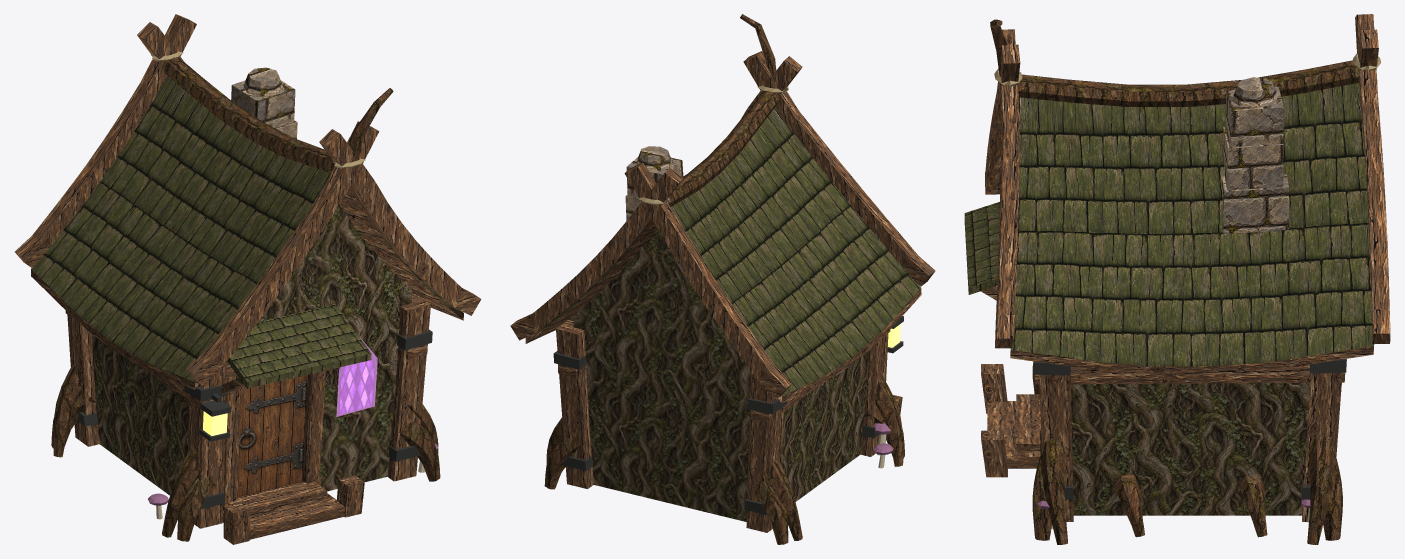
File: house-dark-forest-01.glb
3 views of the same model, side by side, from view 1: azimuth 30°, elevation 25°; view 2: azimuth 150°, elevation 25°; view 3: azimuth 270°, elevation 25° (orthographic). The views are drawn at different scales.
Parts seen in each view (by area): view 1: roof_-1, gable_-1, side_-1, porch_roof, door, barge_-1_-1, roots, barge_1_-1, barge_-1_1, ridge, post_1_-1, post_-1_-1 (+17 smaller); view 2: roof_-1, gable_1, side_-1, barge_1_-1, barge_-1_-1, roots, barge_1_1, post_1_1, post_-1_1, ridge, post_-1_-1, roof_under_1 (+7 smaller); view 3: roof_1, side_1, roots, chimney, ridge, barge_1_1, barge_-1_1, roof_edge_1, plate_1, porch_roof, post_1_-1, post_1_1 (+9 smaller).
Part boxes in pixels (x1,y1,x2,y2): roof_-1: [31, 76, 330, 382]; gable_-1: [227, 205, 411, 491]; side_-1: [92, 334, 188, 495]; porch_roof: [227, 304, 371, 388]; door: [237, 374, 307, 497]; barge_-1_-1: [186, 121, 379, 385]; roots: [51, 365, 440, 541]; barge_1_-1: [14, 14, 196, 267]; barge_-1_1: [319, 129, 481, 315]; ridge: [162, 57, 334, 172]; post_1_-1: [387, 295, 430, 481]; post_-1_-1: [188, 361, 227, 528]; roof_-1: [670, 108, 920, 395]; gable_1: [573, 229, 751, 521]; side_-1: [781, 352, 867, 501]; barge_1_-1: [624, 162, 792, 399]; barge_-1_-1: [743, 51, 935, 286]; roots: [544, 378, 904, 544]; barge_1_1: [510, 167, 683, 340]; post_1_1: [556, 320, 593, 489]; post_-1_1: [746, 373, 783, 532]; ridge: [668, 90, 779, 206]; post_-1_-1: [860, 333, 888, 456]; roof_under_1: [527, 220, 657, 343]; roof_1: [1010, 83, 1373, 366]; side_1: [1071, 383, 1309, 515]; roots: [1032, 361, 1342, 544]; chimney: [1221, 86, 1288, 233]; ridge: [1018, 60, 1359, 106]; barge_1_1: [1355, 14, 1390, 344]; barge_-1_1: [995, 29, 1019, 348]; roof_edge_1: [1010, 346, 1373, 375]; plate_1: [1034, 364, 1345, 384]; porch_roof: [964, 202, 999, 294]; post_1_-1: [1039, 375, 1073, 521]; post_1_1: [1302, 372, 1342, 521].
Bounding box in the file's own units: 2.96 × 3.94 × 3.13.
13 materials, 8 textured.
